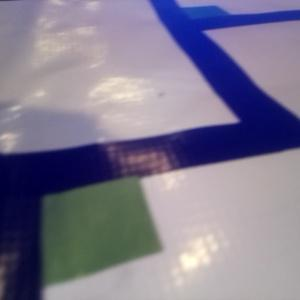bottom_right: (1, 153, 165, 285)
top_right: (165, 4, 231, 27)
